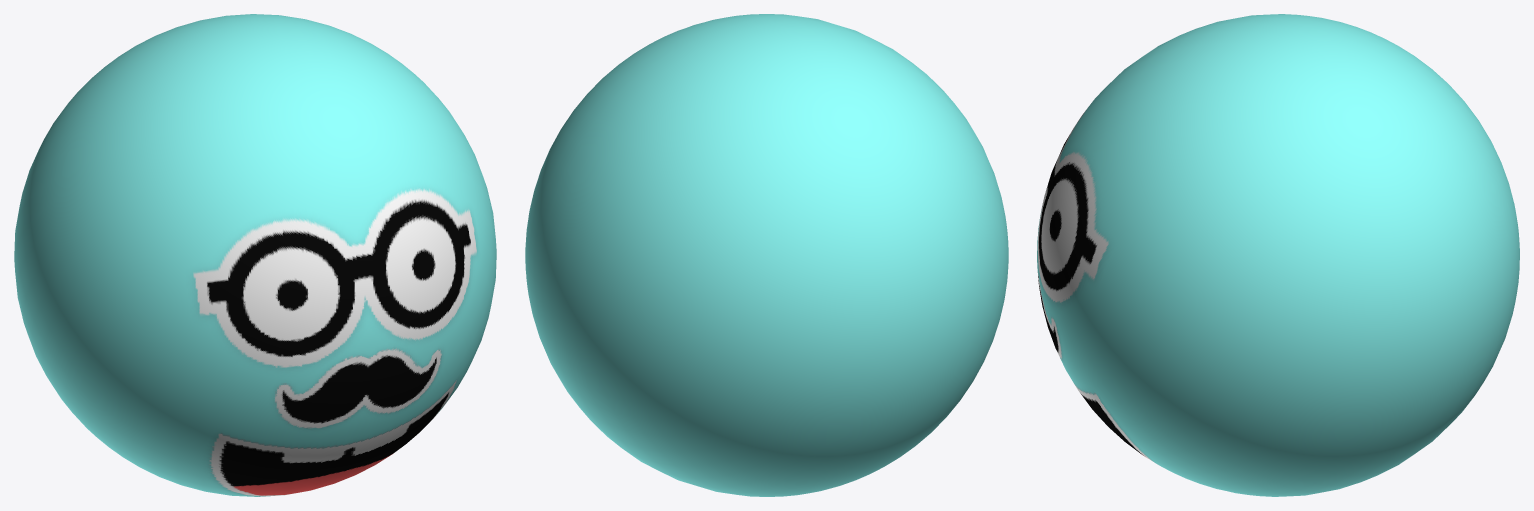
The model's file is Weird GUy.glb.
3 views of the same model, side by side, from view 1: azimuth 30°, elevation 25°; view 2: azimuth 150°, elevation 25°; view 3: azimuth 270°, elevation 25° (orthographic).
Visible parts, largest first — view 1: mesh_id27; view 2: mesh_id27; view 3: mesh_id27.
Part boxes in pixels (x1=…): mesh_id27: x1=14, y1=14, x2=496, y2=496; mesh_id27: x1=525, y1=14, x2=1008, y2=496; mesh_id27: x1=1037, y1=14, x2=1519, y2=496.
Size of the model in its own units: 0.1996 by 0.1999 by 0.1999.
Materials: 1 (1 with a texture image).
